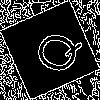Q: (25, 25, 84, 78)
